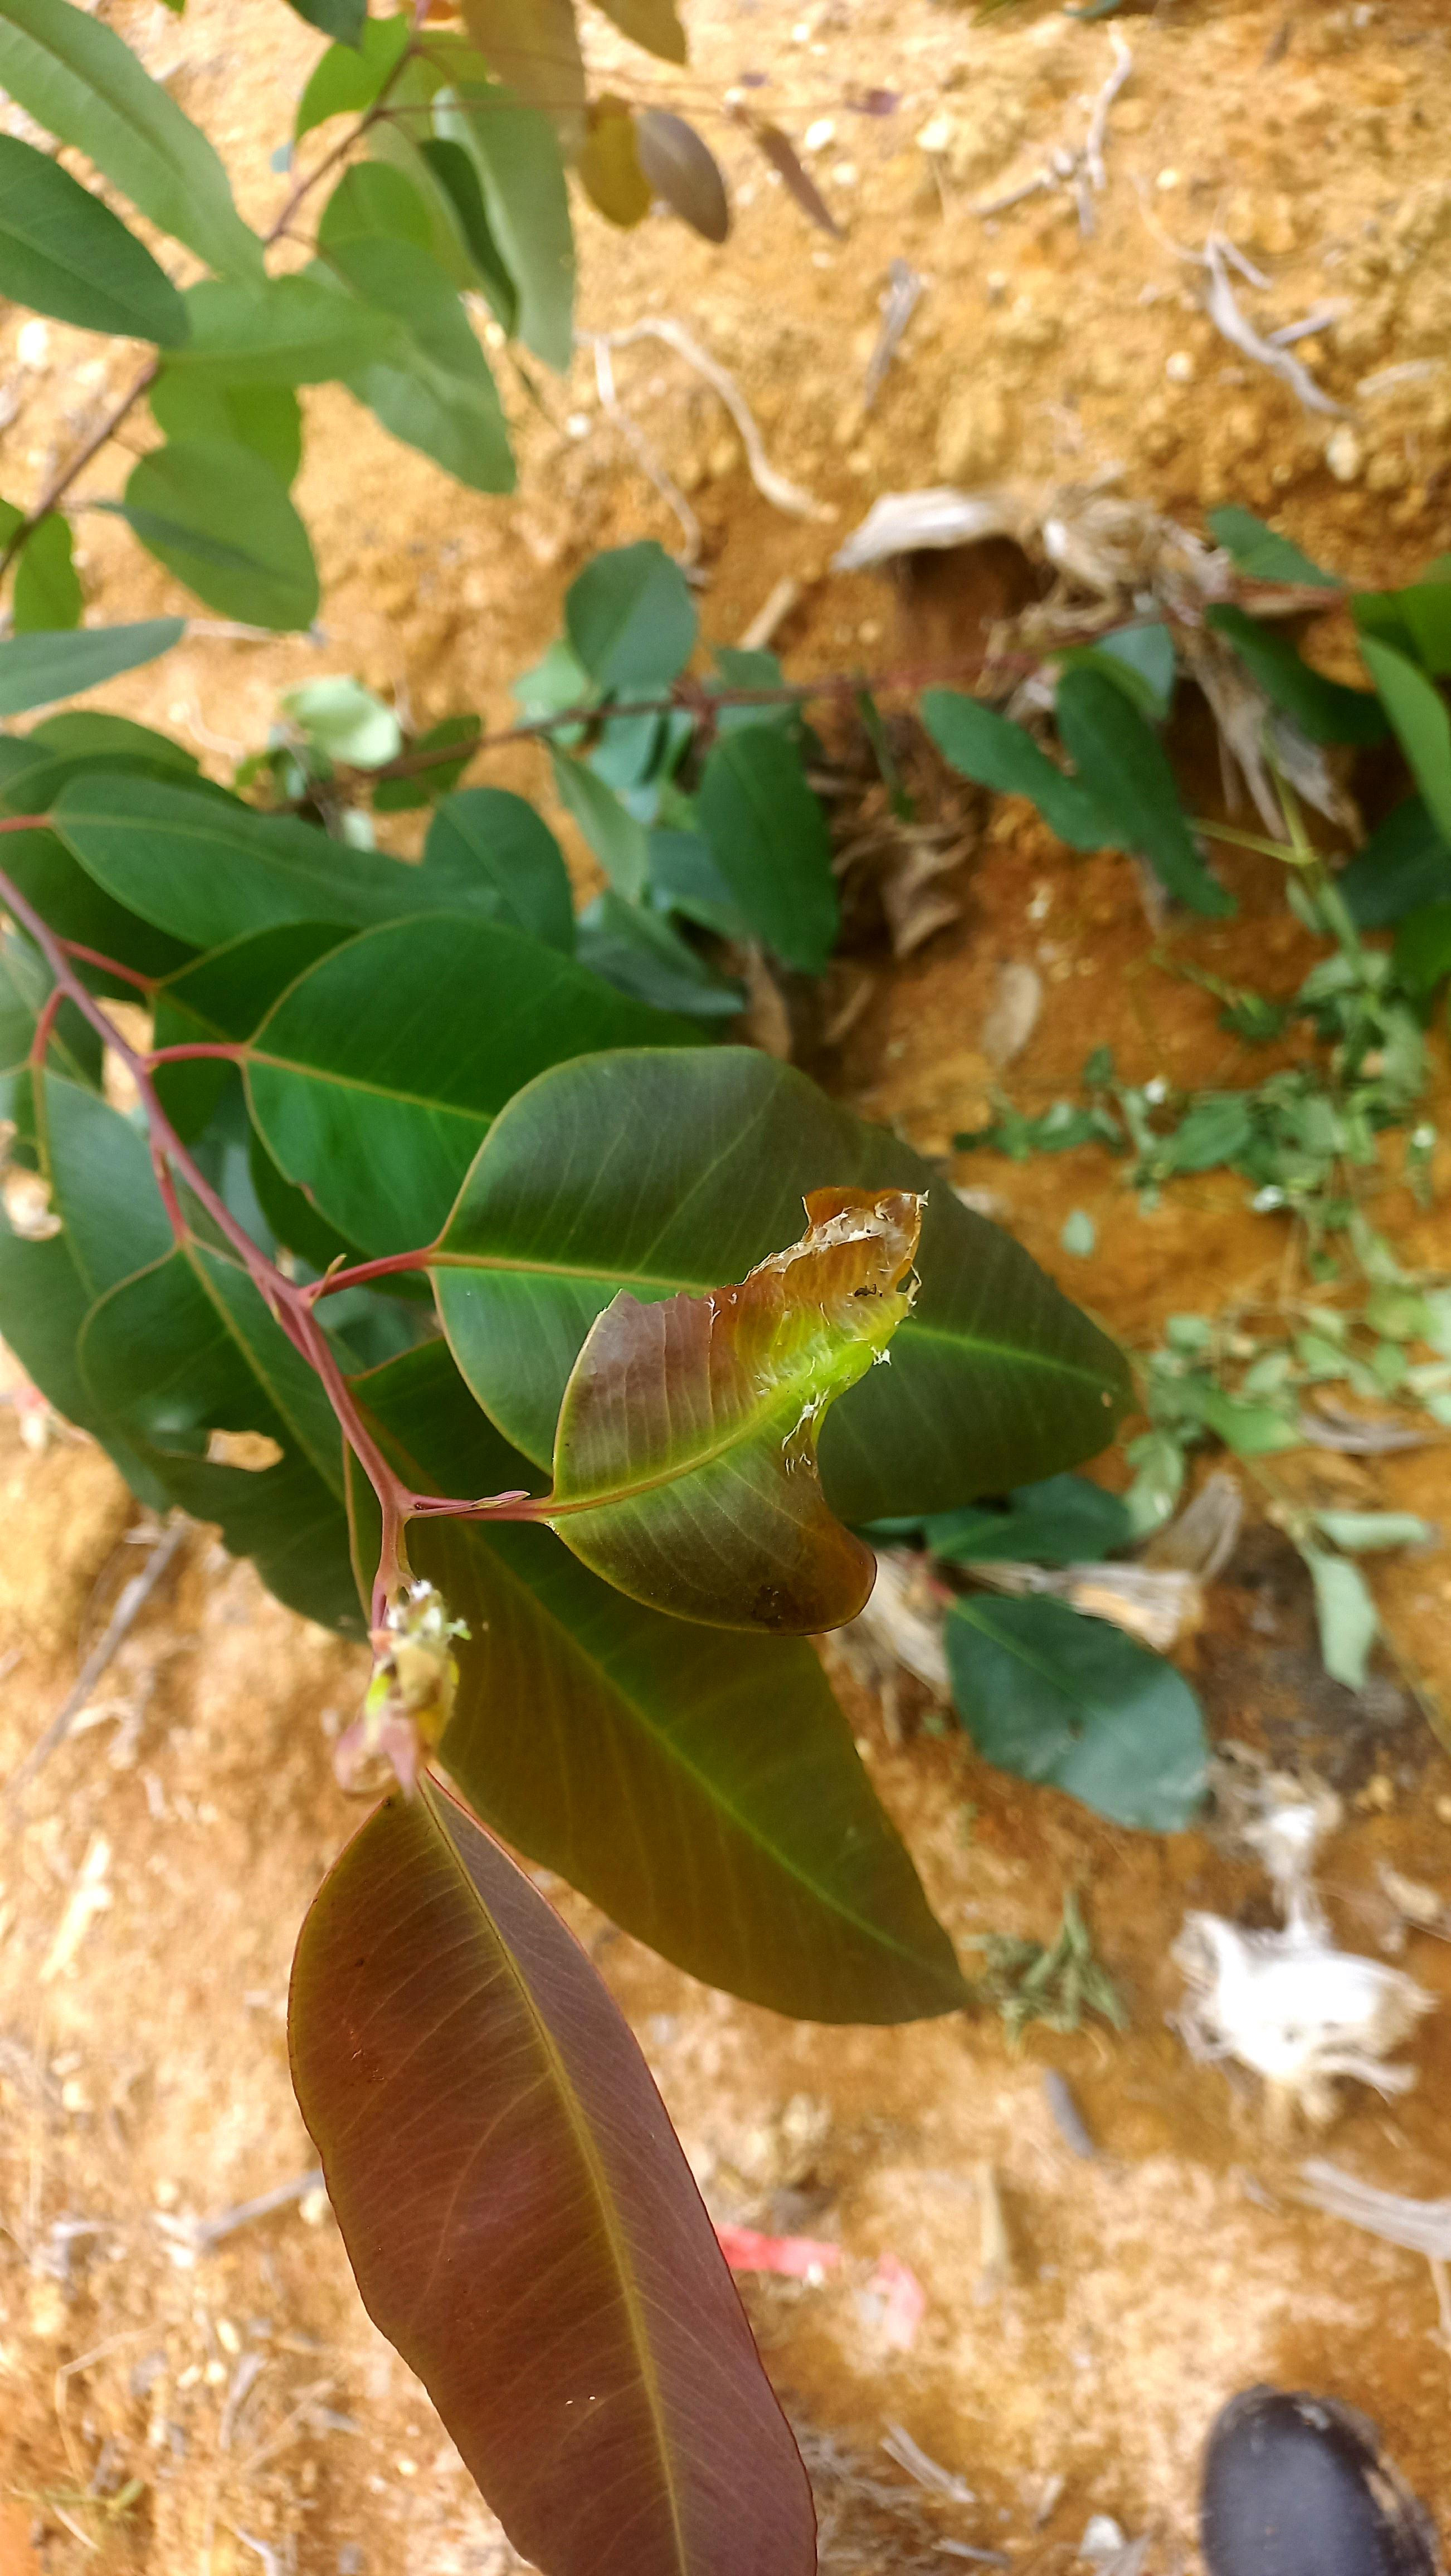Leaf Roller - Leaf: (570, 1187, 940, 1626)
